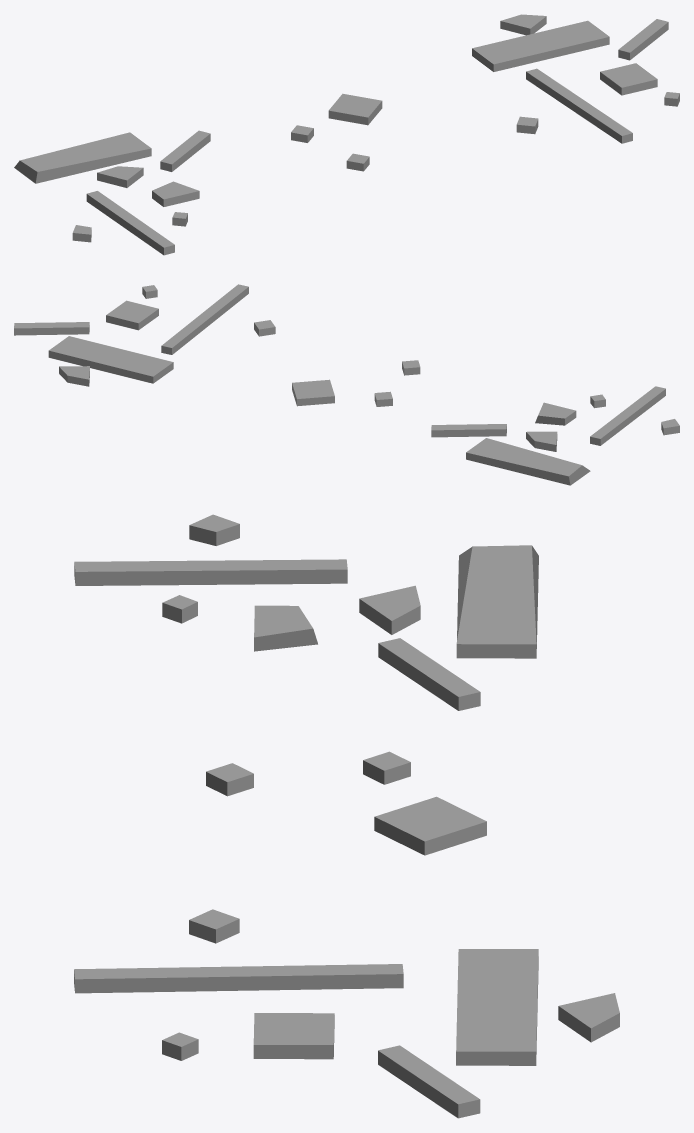
File: Rubble.FBX
The picture shows the model from 3 angles, top to bottom: view 1: azimuth 30°, elevation 25°; view 2: azimuth 150°, elevation 25°; view 3: azimuth 270°, elevation 25°; orthographic projection. The views are drawn at different scales.
Parts seen in each view (by area): view 1: rubble_01, rubble_03, rubble_02; view 2: rubble_01, rubble_03, rubble_02; view 3: rubble_01, rubble_03, rubble_02.
Part boxes in pixels (x1,y1,x2,y2): rubble_01: (472,14,679,143); rubble_03: (14,130,210,255); rubble_02: (291,93,382,171); rubble_01: (14,284,275,386); rubble_03: (431,386,679,485); rubble_02: (292,360,420,406); rubble_01: (74,909,619,1118); rubble_03: (74,514,538,710); rubble_02: (206,751,486,855).
Bounding box in the file's own units: 1782 × 19.9 × 697.
Materials: 1 (1 with a texture image).
